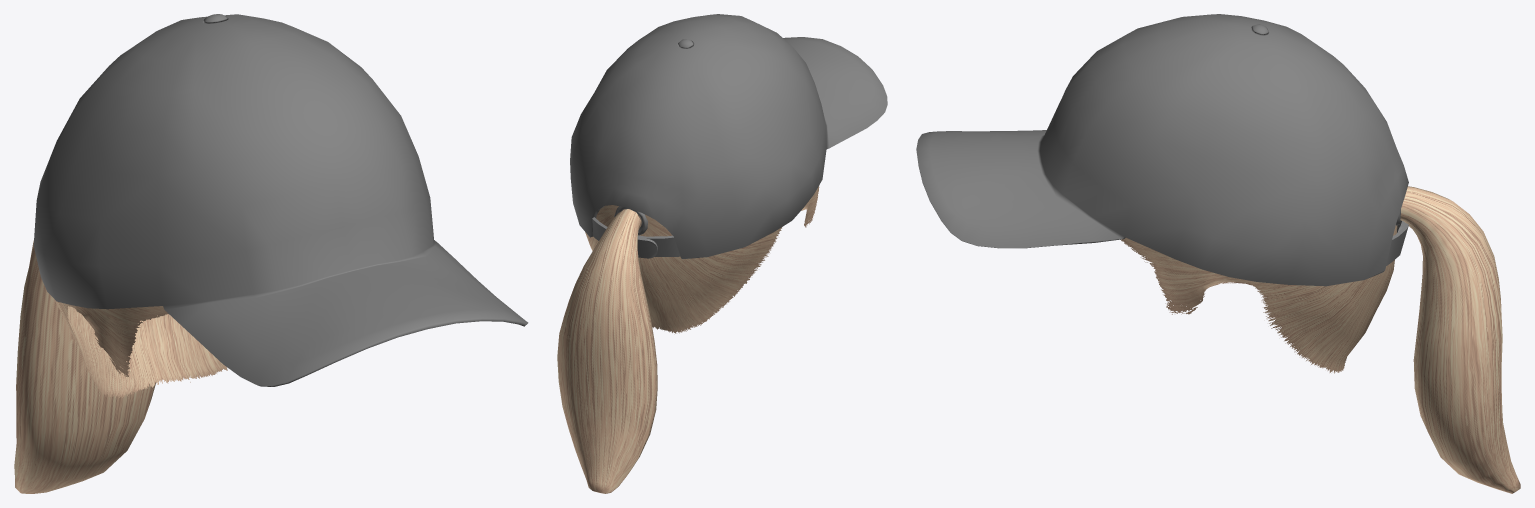
The model's file is BaseballHat_Hair_01.obj.
3 renders of one model, left to right at view 1: azimuth 30°, elevation 25°; view 2: azimuth 150°, elevation 25°; view 3: azimuth 270°, elevation 25°, orthographic. The views are drawn at different scales.
Size of the model in its own units: 16.66 by 28.05 by 32.43.
